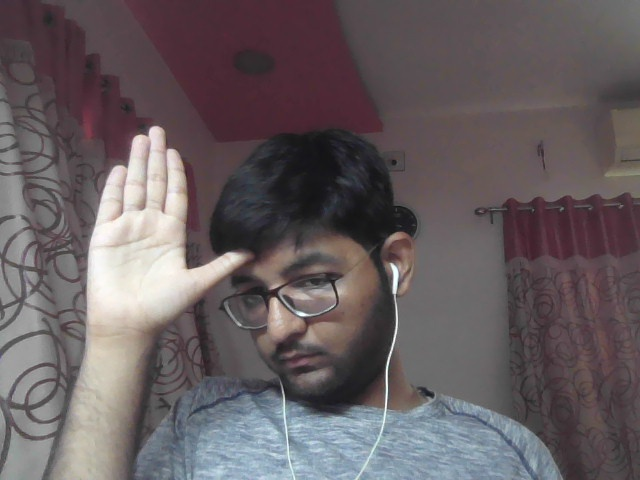પિતા: (63, 120, 267, 341)
